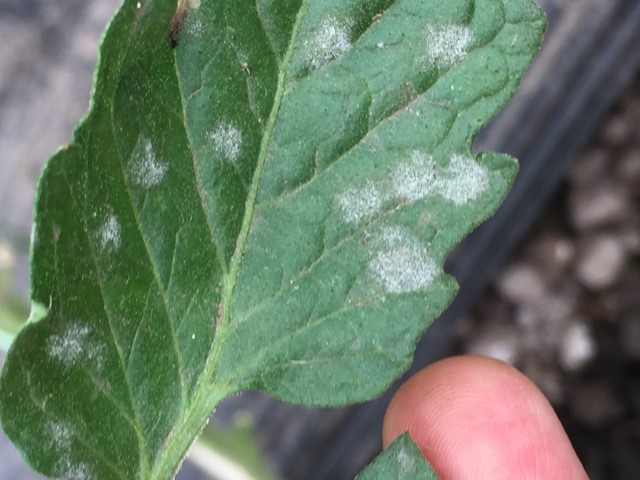oidio: (365, 226, 440, 295), (43, 320, 105, 372), (305, 13, 351, 72), (437, 153, 489, 205), (387, 148, 436, 202), (127, 132, 170, 190), (424, 22, 473, 71), (335, 177, 382, 223), (206, 120, 242, 164), (44, 416, 86, 453), (91, 212, 122, 252), (48, 455, 96, 480), (231, 49, 253, 76), (186, 18, 205, 40)
